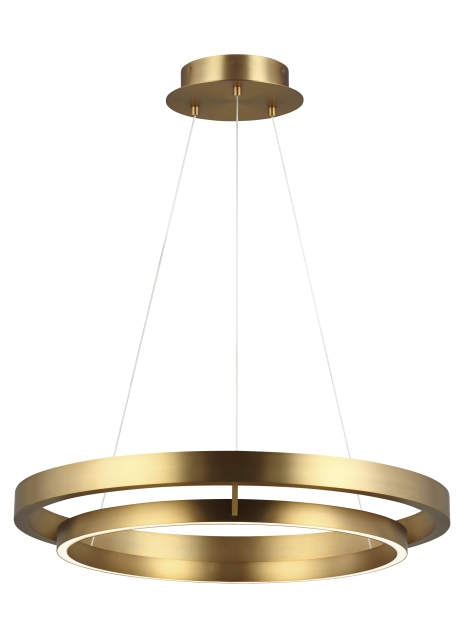chandelier: (12, 32, 455, 608)
